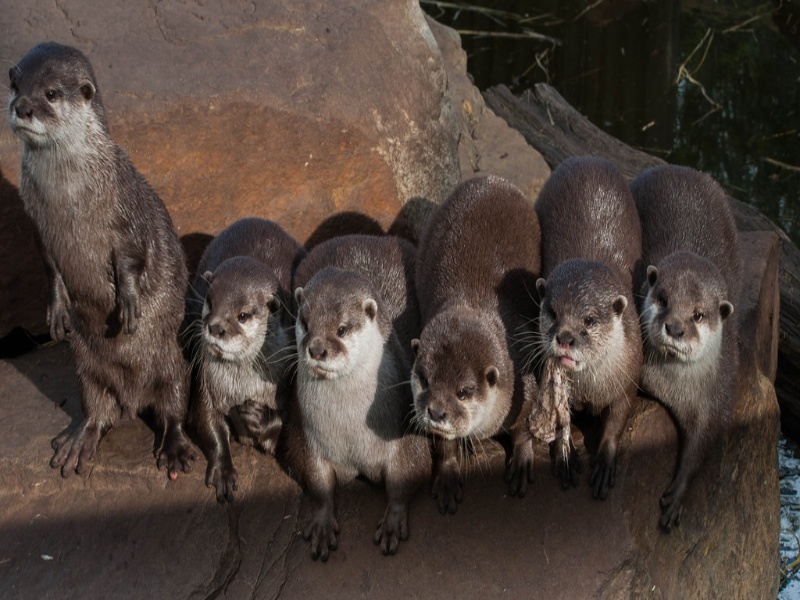minkish: (4, 37, 197, 477), (411, 173, 545, 506), (294, 226, 422, 561), (536, 143, 641, 539), (633, 155, 737, 540), (190, 215, 300, 501)
